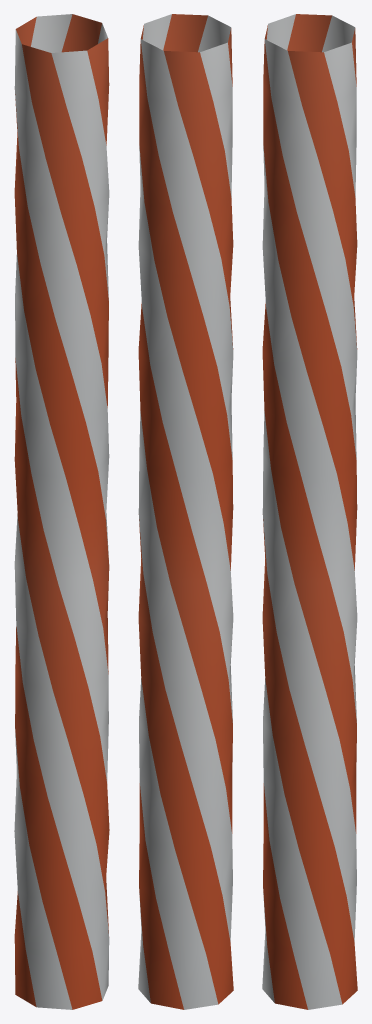
Rendered from Shugar_cane_001.fbx.
3 renders of one model, left to right at view 1: azimuth 30°, elevation 25°; view 2: azimuth 150°, elevation 25°; view 3: azimuth 330°, elevation 25°, orthographic.
Visible parts, largest first — view 1: Shugar_cane_001; view 2: Shugar_cane_001; view 3: Shugar_cane_001.
Part boxes in pixels (x1=…): Shugar_cane_001: x1=14, y1=14, x2=109, y2=1009; Shugar_cane_001: x1=138, y1=14, x2=233, y2=1009; Shugar_cane_001: x1=262, y1=14, x2=357, y2=1009.
Size of the model in its own units: 0.3119 by 3.47 by 0.3119.
